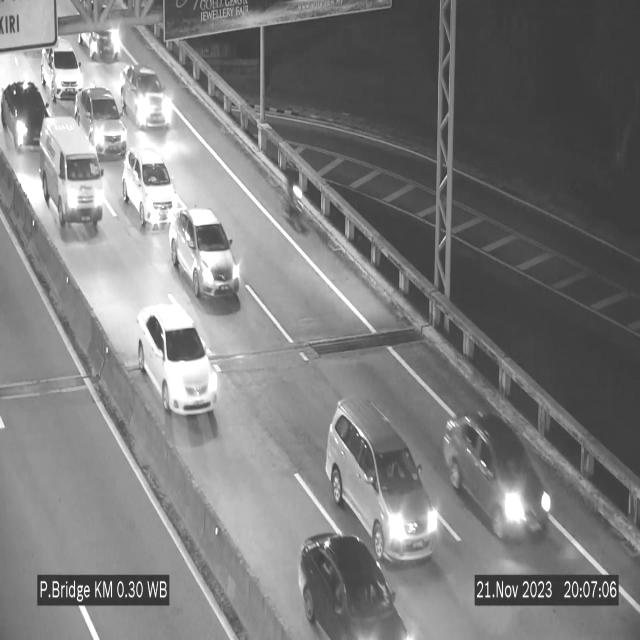Car: (324, 395, 439, 567), (285, 519, 413, 640), (445, 406, 552, 544), (138, 306, 218, 426), (41, 119, 104, 237), (170, 206, 241, 302), (123, 136, 179, 231), (73, 83, 127, 152), (4, 78, 50, 158), (36, 38, 90, 102), (120, 64, 172, 128), (81, 6, 127, 65)
Motorcycle: (277, 156, 306, 235)
